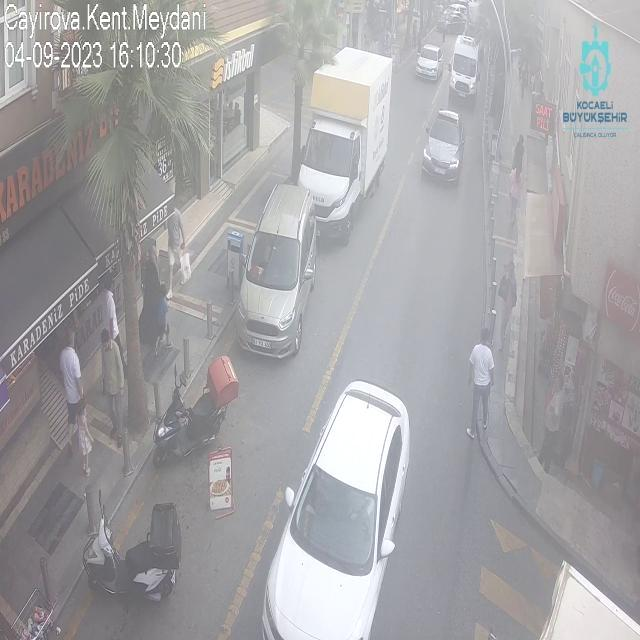Car: (264, 376, 424, 640), (232, 191, 323, 356), (408, 112, 471, 194), (450, 32, 490, 110), (408, 36, 449, 94)
Cycle: (76, 461, 192, 606), (143, 345, 253, 464)
Truck: (276, 53, 407, 232)
